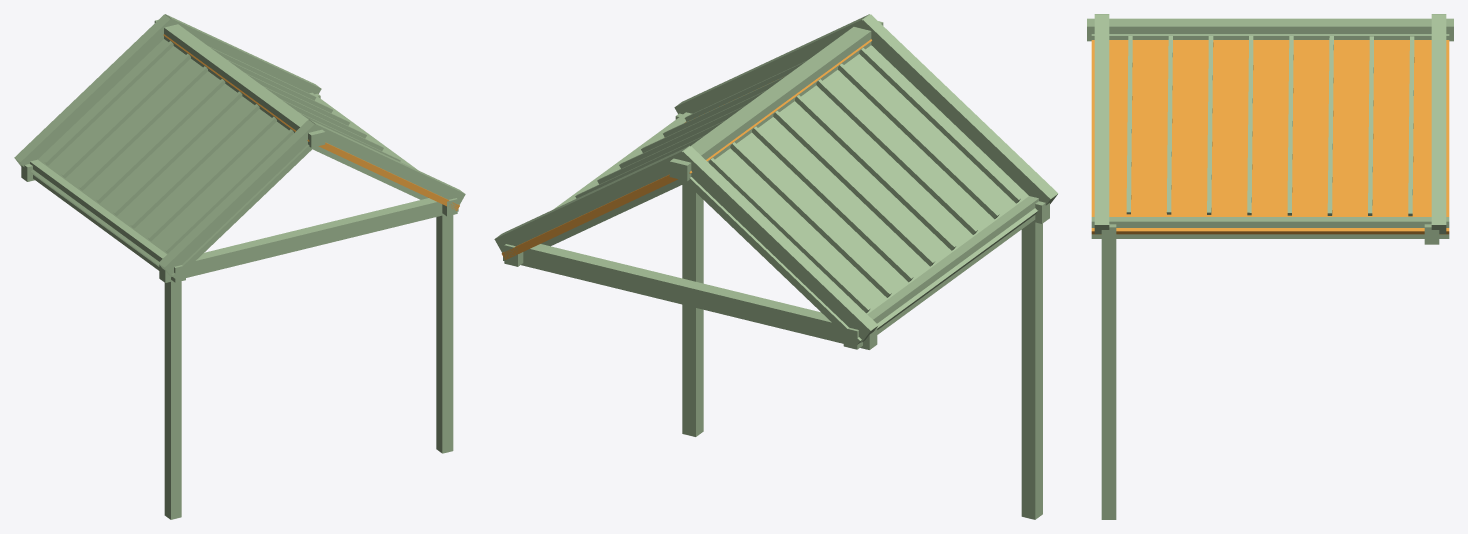
File: marquesina.fbx
The picture shows the model from 3 angles, left to right: view 1: azimuth 30°, elevation 25°; view 2: azimuth 150°, elevation 25°; view 3: azimuth 270°, elevation 25°; orthographic projection. The views are drawn at different scales.
Visible parts, largest first — view 1: Faldon_Izq_Metal, Fascia_Frente, Poste_Der, Poste_Izq, Rake_Izq_-1, Rake_Izq_1, Viga_Cumbrera, Alero_Izq, Rake_Der_-1, Rake_Der_1, Faldon_Der_Ambar, Costilla_07 (+14 smaller); view 2: Faldon_Izq_Metal, Fascia_Trasera, Poste_Izq, Rake_Izq_1, Rake_Izq_-1, Viga_Cumbrera, Poste_Der, Alero_Izq, Rake_Der_1, Rake_Der_-1, Faldon_Der_Ambar, Costilla_06 (+14 smaller); view 3: Faldon_Der_Ambar, Viga_Cumbrera, Alero_Der, Poste_Der, Rake_Der_-1, Rake_Der_1, Costilla_00.001, Costilla_04.001, Costilla_02.001, Costilla_03.001, Costilla_05.001, Costilla_07.001 (+3 smaller).
Boxes of the visible parts, x1=… form: Faldon_Izq_Metal: x1=30, y1=39, x2=314, y2=279; Fascia_Frente: x1=159, y1=198, x2=458, y2=282; Poste_Der: x1=436, y1=215, x2=453, y2=453; Poste_Izq: x1=164, y1=281, x2=181, y2=519; Rake_Izq_-1: x1=158, y1=120, x2=318, y2=276; Rake_Izq_1: x1=14, y1=14, x2=174, y2=166; Viga_Cumbrera: x1=154, y1=19, x2=325, y2=147; Alero_Izq: x1=30, y1=159, x2=185, y2=282; Rake_Der_-1: x1=309, y1=119, x2=465, y2=204; Rake_Der_1: x1=165, y1=14, x2=321, y2=94; Faldon_Der_Ambar: x1=163, y1=34, x2=459, y2=210; Costilla_07: x1=44, y1=41, x2=173, y2=165; Faldon_Izq_Metal: x1=683, y1=45, x2=1037, y2=345; Fascia_Trasera: x1=503, y1=244, x2=877, y2=349; Poste_Izq: x1=1021, y1=220, x2=1042, y2=519; Rake_Izq_1: x1=678, y1=146, x2=878, y2=342; Rake_Izq_-1: x1=862, y1=14, x2=1058, y2=205; Viga_Cumbrera: x1=669, y1=21, x2=883, y2=181; Poste_Der: x1=682, y1=183, x2=703, y2=436; Alero_Izq: x1=843, y1=196, x2=1038, y2=349; Rake_Der_1: x1=494, y1=146, x2=689, y2=252; Rake_Der_-1: x1=674, y1=14, x2=869, y2=114; Faldon_Der_Ambar: x1=501, y1=39, x2=871, y2=259; Costilla_06: x1=730, y1=142, x2=891, y2=297; Faldon_Der_Ambar: x1=1091, y1=40, x2=1449, y2=234; Viga_Cumbrera: x1=1087, y1=18, x2=1453, y2=41; Alero_Der: x1=1091, y1=217, x2=1449, y2=238; Poste_Der: x1=1101, y1=244, x2=1116, y2=519; Rake_Der_-1: x1=1094, y1=14, x2=1109, y2=233; Rake_Der_1: x1=1431, y1=14, x2=1446, y2=233; Costilla_00.001: x1=1408, y1=36, x2=1414, y2=216; Costilla_04.001: x1=1247, y1=35, x2=1253, y2=215; Costilla_02.001: x1=1327, y1=36, x2=1333, y2=215; Costilla_03.001: x1=1287, y1=36, x2=1293, y2=215; Costilla_05.001: x1=1207, y1=36, x2=1213, y2=214; Costilla_07.001: x1=1126, y1=36, x2=1132, y2=214.
Bounding box in the file's own units: 277 × 320 × 250.
